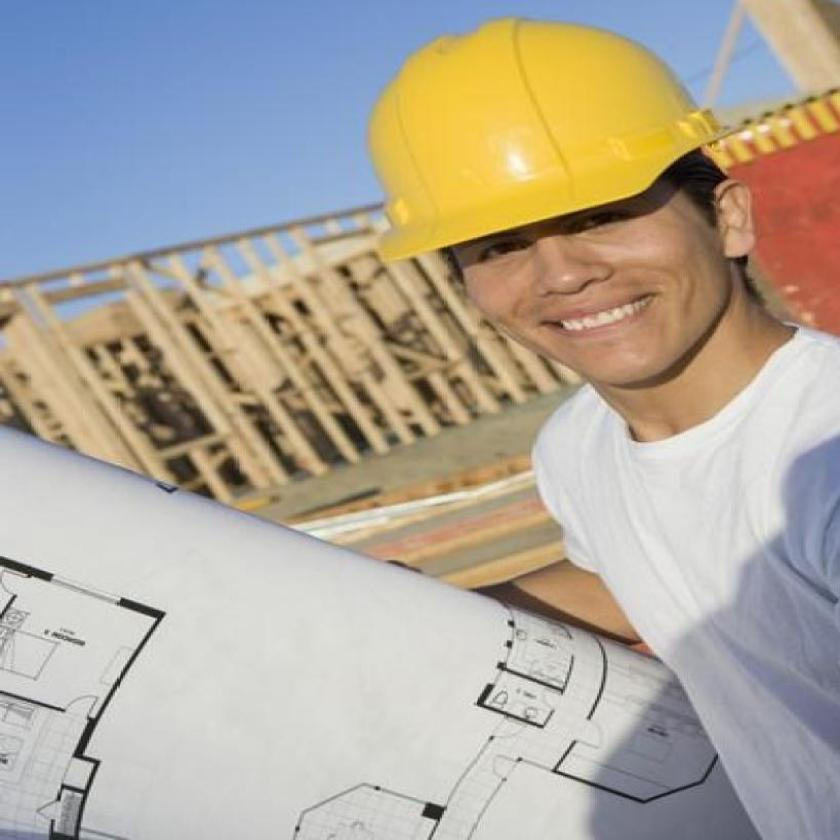Con_casco: (359, 0, 774, 434)
